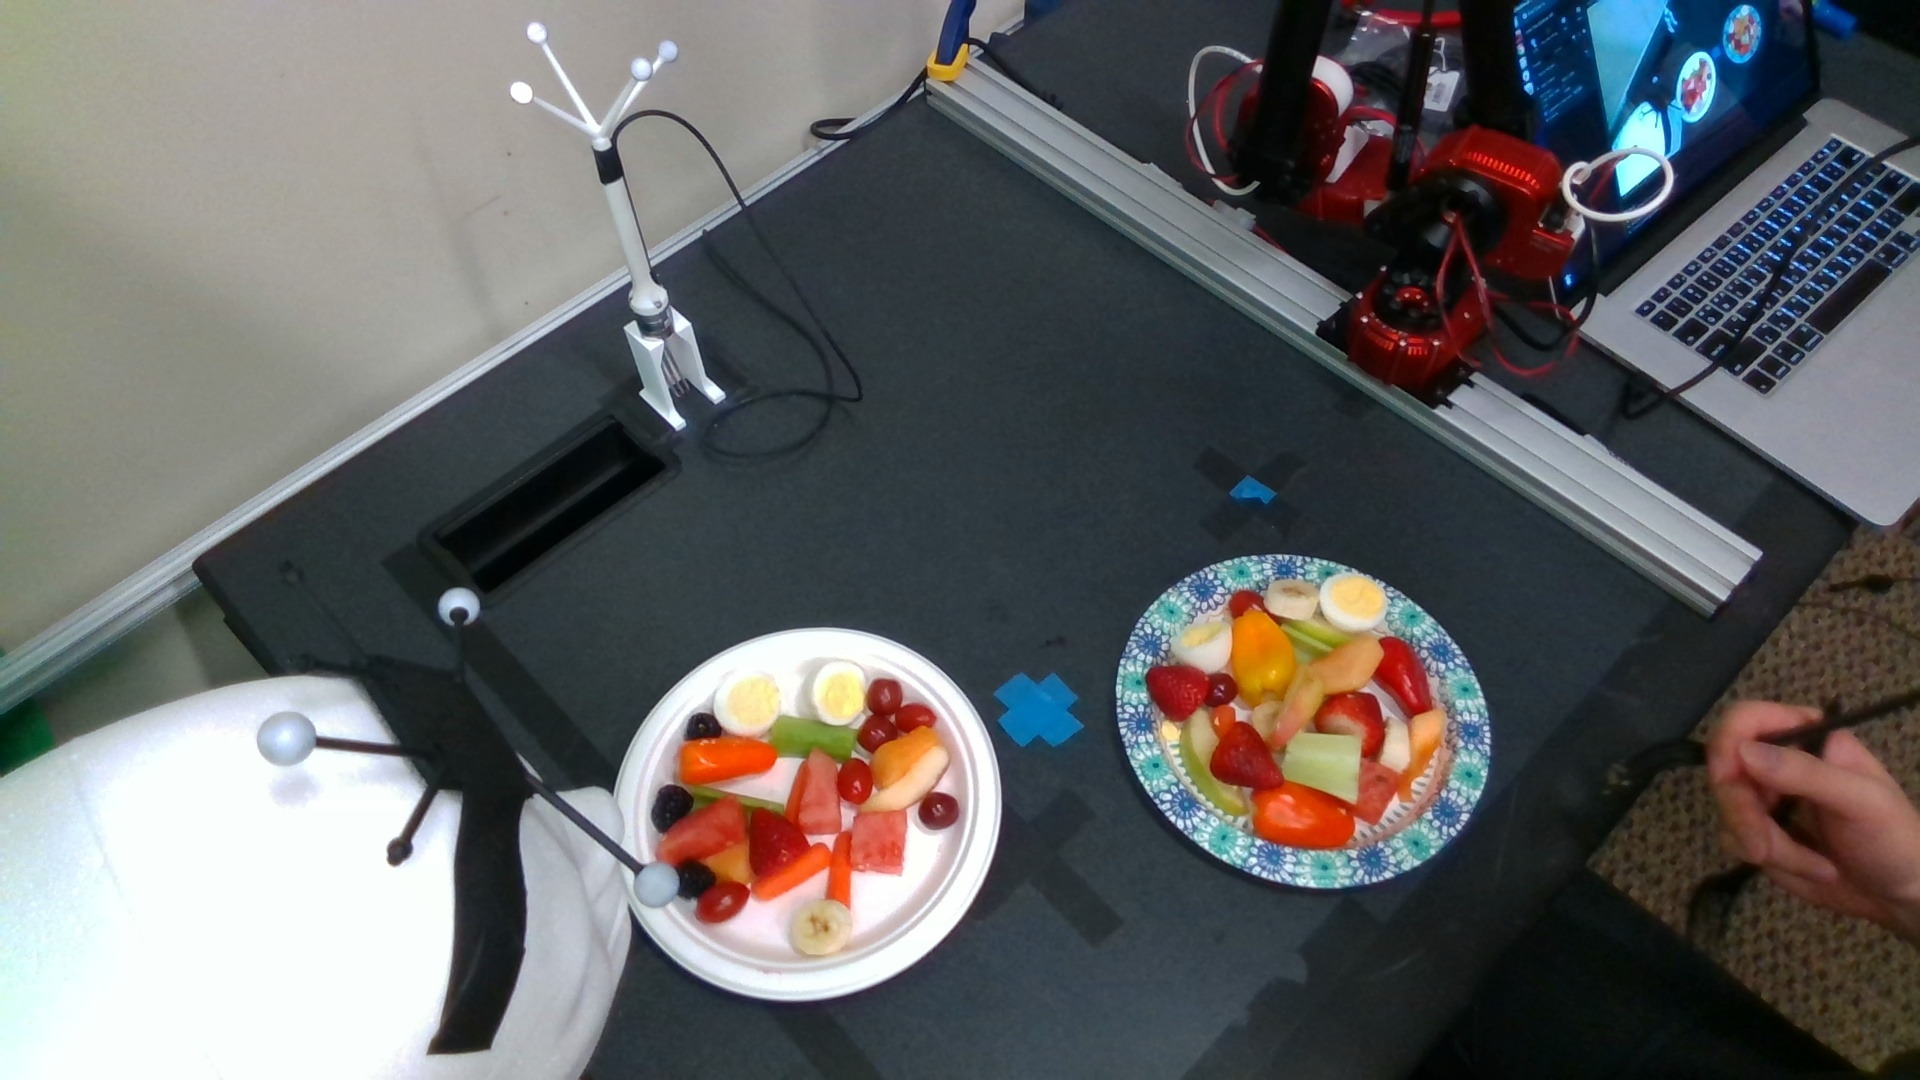apple: (1182, 707, 1247, 812), (866, 746, 948, 811), (1271, 674, 1323, 749)
banana: (793, 901, 853, 956), (1265, 579, 1320, 618), (1382, 716, 1408, 773)
bell_pepper: (1249, 782, 1356, 849), (1230, 609, 1294, 702), (680, 733, 777, 785), (1374, 636, 1431, 716)
blackberry: (653, 785, 691, 833), (678, 860, 715, 899), (688, 713, 720, 738)
cantalope: (1309, 637, 1385, 692), (874, 727, 938, 789), (1400, 708, 1443, 800)
carrot: (756, 844, 829, 901), (827, 829, 853, 909)
celery: (771, 713, 858, 760)
cherry_tomato: (695, 881, 749, 923), (837, 757, 872, 803), (898, 703, 936, 733)
egg: (713, 673, 779, 735), (804, 661, 865, 727), (1321, 574, 1386, 633), (1171, 622, 1232, 673)
grape: (858, 713, 897, 753), (919, 793, 957, 829), (1204, 673, 1238, 708), (866, 679, 901, 712)
melon: (657, 796, 748, 860), (851, 810, 905, 876), (800, 750, 843, 833), (1353, 760, 1400, 824)
plate: (612, 626, 1004, 1001), (1116, 553, 1491, 887)
strawberry: (1211, 723, 1284, 789), (1316, 692, 1386, 756), (748, 808, 808, 876), (1147, 665, 1209, 723)
